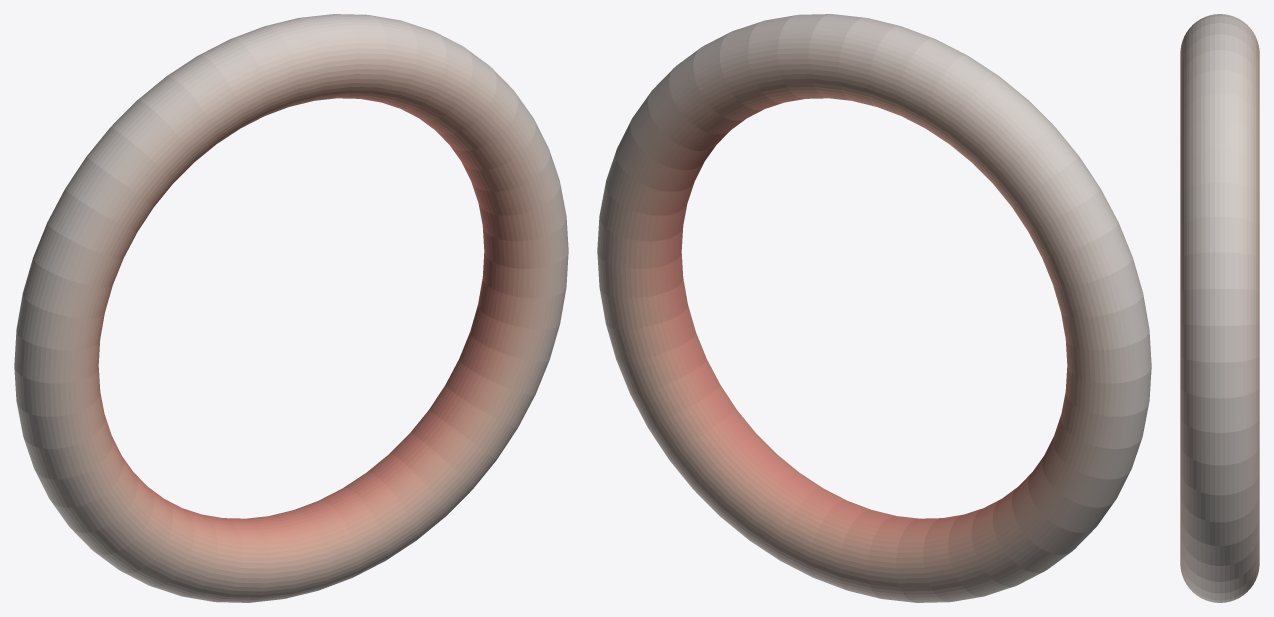
3 views of the same model, side by side, from view 1: azimuth 30°, elevation 25°; view 2: azimuth 150°, elevation 25°; view 3: azimuth 270°, elevation 25° (orthographic). The views are drawn at different scales.
Visible parts, largest first — view 1: world; view 2: world; view 3: world.
Part boxes in pixels (x1,y1,x2,y2): world: (14,14,568,602); world: (597,14,1151,602); world: (1180,14,1259,602).
Size of the model in its own units: 34.67 by 34.6 by 4.66.
